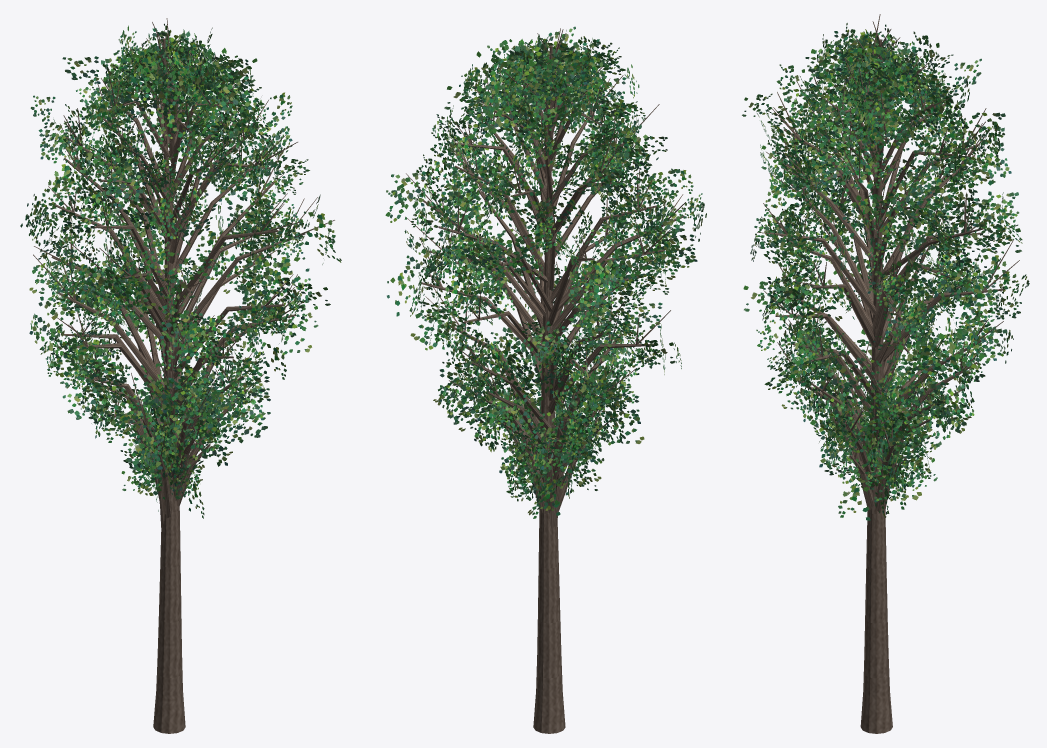
3 renders of one model, left to right at view 1: azimuth 30°, elevation 25°; view 2: azimuth 150°, elevation 25°; view 3: azimuth 270°, elevation 25°, orthographic.
Parts seen in each view (by area): view 1: VIS_Leaf_Flower_Cards, VIS_Trunk_Branches; view 2: VIS_Leaf_Flower_Cards, VIS_Trunk_Branches; view 3: VIS_Leaf_Flower_Cards, VIS_Trunk_Branches.
Boxes of the visible parts, x1,y1,x2,y2 form: VIS_Leaf_Flower_Cards: (20,23,341,518); VIS_Trunk_Branches: (33,18,334,733); VIS_Leaf_Flower_Cards: (385,26,706,518); VIS_Trunk_Branches: (405,28,685,733); VIS_Leaf_Flower_Cards: (742,23,1029,520); VIS_Trunk_Branches: (757,14,1019,733).
Bounding box in the file's own units: 3.08 × 7.46 × 2.83.
2 materials, 2 textured.
